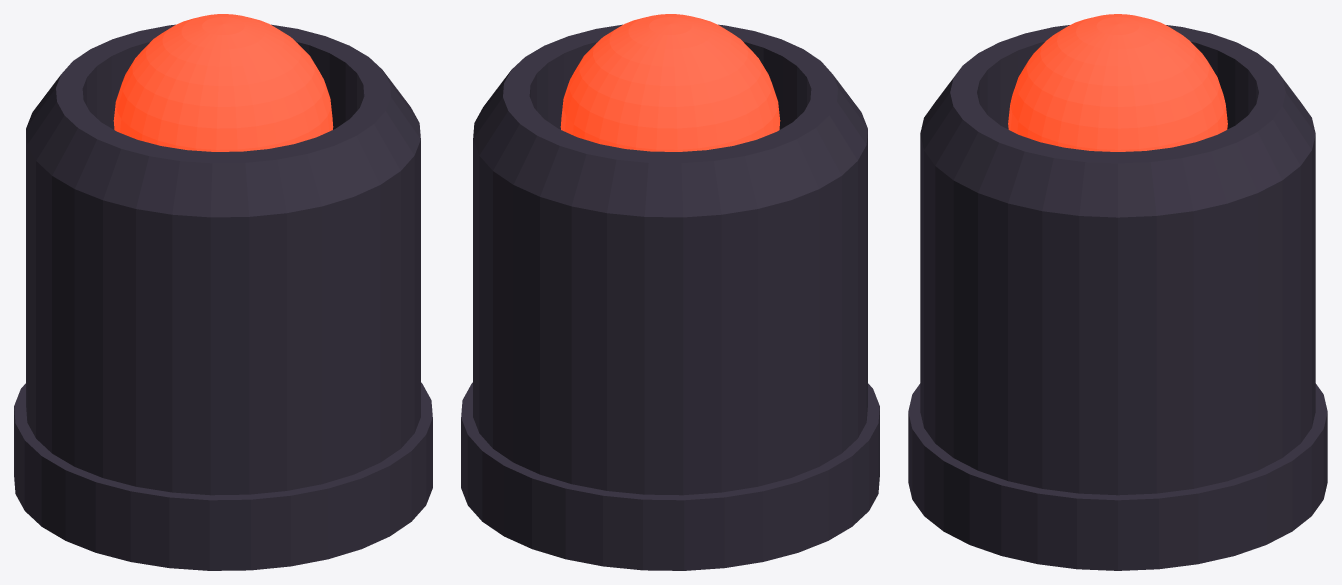
The model's file is enemy.fbx.
3 views of the same model, side by side, from view 1: azimuth 30°, elevation 25°; view 2: azimuth 150°, elevation 25°; view 3: azimuth 270°, elevation 25° (orthographic).
Parts seen in each view (by area): view 1: Sphere; view 2: Sphere; view 3: Sphere.
Part boxes in pixels (x1,y1,x2,y2): Sphere: [14, 14, 432, 570]; Sphere: [461, 14, 879, 570]; Sphere: [908, 14, 1327, 570].
Bounding box in the file's own units: 382 × 460 × 382.
